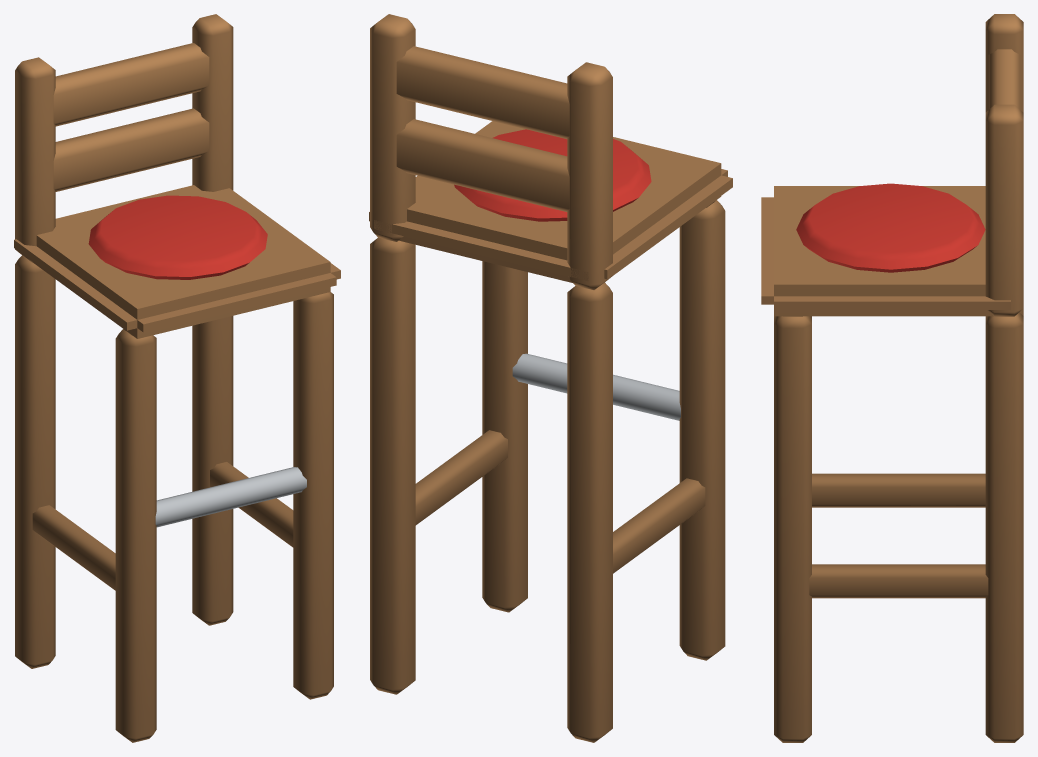
The model's file is SM_BarStool_Wood_High_01.glb.
The picture shows the model from 3 angles, left to right: view 1: azimuth 30°, elevation 25°; view 2: azimuth 150°, elevation 25°; view 3: azimuth 270°, elevation 25°; orthographic projection. The views are drawn at different scales.
Parts seen in each view (by area): view 1: SM_BarStool_Wood_High_01; view 2: SM_BarStool_Wood_High_01; view 3: SM_BarStool_Wood_High_01.
Boxes of the visible parts, x1,y1,x2,y2 form: SM_BarStool_Wood_High_01: (14,14,340,742); SM_BarStool_Wood_High_01: (369,14,732,742); SM_BarStool_Wood_High_01: (761,14,1023,742).
Bounding box in the file's own units: 0.41 × 1.1 × 0.415.
1 material, 1 textured.
